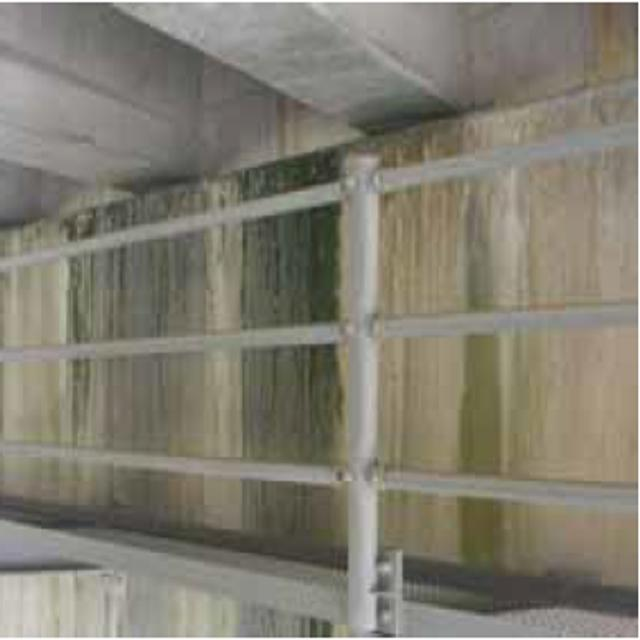leakage: (64, 124, 343, 533)
